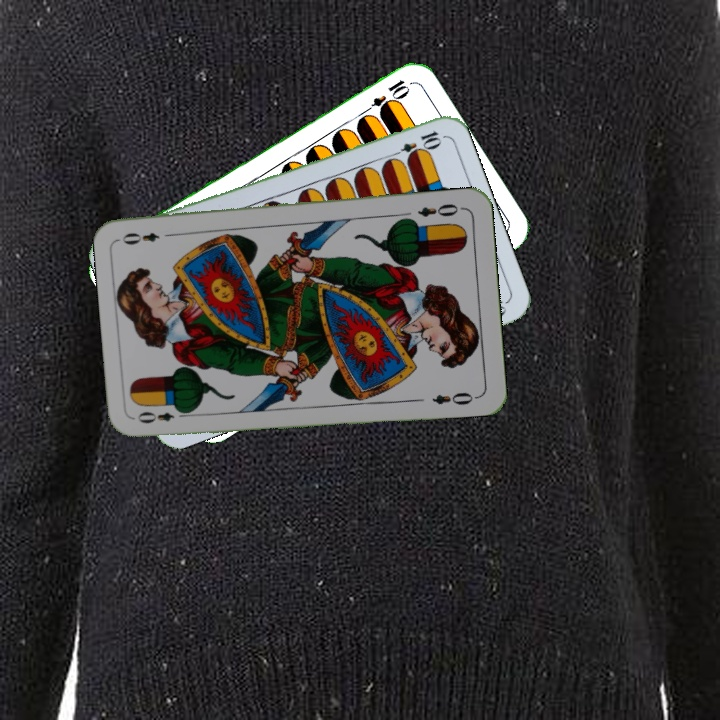E10: (358, 75, 412, 119), (386, 127, 444, 162)
EO: (133, 404, 191, 426), (414, 199, 466, 220)
